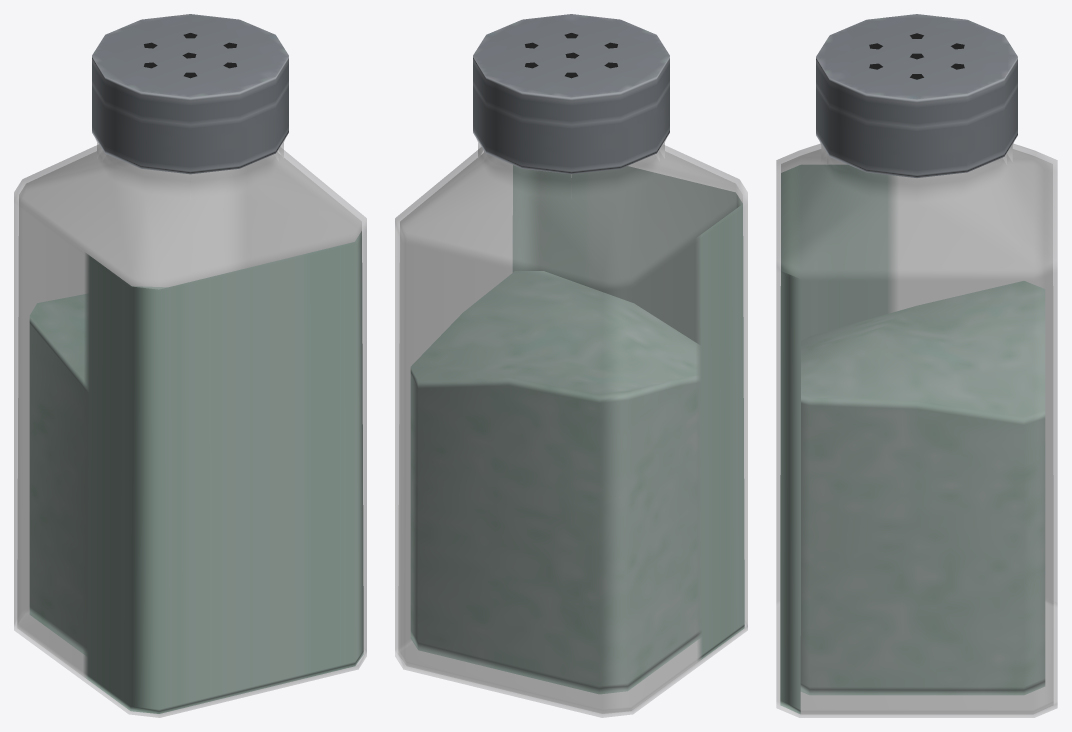
Rendered from pi_spice04.gltf.
3 views of the same model, side by side, from view 1: azimuth 30°, elevation 25°; view 2: azimuth 150°, elevation 25°; view 3: azimuth 270°, elevation 25° (orthographic). The views are drawn at different scales.
Visible parts, largest first — view 1: pi_spice04_02_shape:pi_spice04_body01_tra, pi_spice04_05_shape:pi_spice04_body01_tra, pi_spice04_01_shape:pi_spice04_body01, pi_spice04_03_shape:pi_spice04_body01; view 2: pi_spice04_02_shape:pi_spice04_body01_tra, pi_spice04_05_shape:pi_spice04_body01_tra, pi_spice04_03_shape:pi_spice04_body01, pi_spice04_01_shape:pi_spice04_body01; view 3: pi_spice04_02_shape:pi_spice04_body01_tra, pi_spice04_05_shape:pi_spice04_body01_tra, pi_spice04_03_shape:pi_spice04_body01, pi_spice04_01_shape:pi_spice04_body01, pi_spice04_04_shape:pi_spice04_body01.
Part boxes in pixels (x1=…): pi_spice04_02_shape:pi_spice04_body01_tra: x1=14, y1=140, x2=366, y2=717; pi_spice04_05_shape:pi_spice04_body01_tra: x1=17, y1=150, x2=363, y2=713; pi_spice04_01_shape:pi_spice04_body01: x1=92, y1=14, x2=288, y2=174; pi_spice04_03_shape:pi_spice04_body01: x1=29, y1=286, x2=166, y2=655; pi_spice04_02_shape:pi_spice04_body01_tra: x1=395, y1=140, x2=747, y2=717; pi_spice04_05_shape:pi_spice04_body01_tra: x1=398, y1=150, x2=744, y2=713; pi_spice04_03_shape:pi_spice04_body01: x1=410, y1=271, x2=700, y2=694; pi_spice04_01_shape:pi_spice04_body01: x1=473, y1=14, x2=669, y2=174; pi_spice04_02_shape:pi_spice04_body01_tra: x1=776, y1=143, x2=1057, y2=717; pi_spice04_05_shape:pi_spice04_body01_tra: x1=780, y1=149, x2=1053, y2=714; pi_spice04_03_shape:pi_spice04_body01: x1=800, y1=281, x2=1045, y2=695; pi_spice04_01_shape:pi_spice04_body01: x1=816, y1=14, x2=1017, y2=177; pi_spice04_04_shape:pi_spice04_body01: x1=869, y1=33, x2=964, y2=79.
Bounding box in the file's own units: 0.0411 × 0.097 × 0.0411.
Materials: 2 (2 with a texture image).
